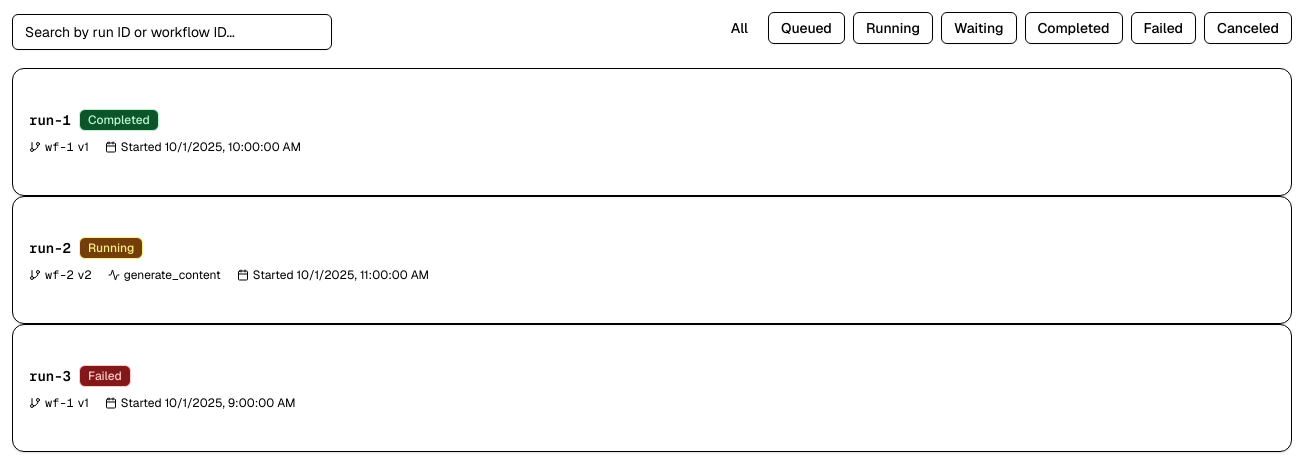
Scenario: RunList › filters runs by status
The image size is (1304, 470).
What coordinates should you click on to do the following:
click the button "Running"
I would click on:
 (893, 28)
Its box is x1=853 y1=12 x2=933 y2=44.
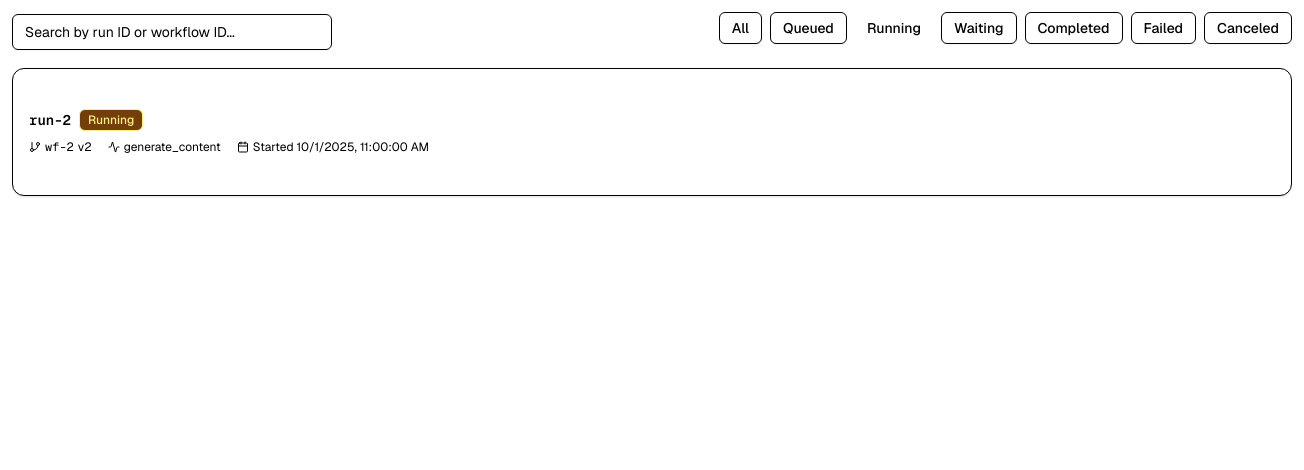
Expected: the heading "run-2" is shown, x1=29 y1=110 x2=71 y2=130
Result: the link "run-1" is gone
Result: the link "run-3" is gone
